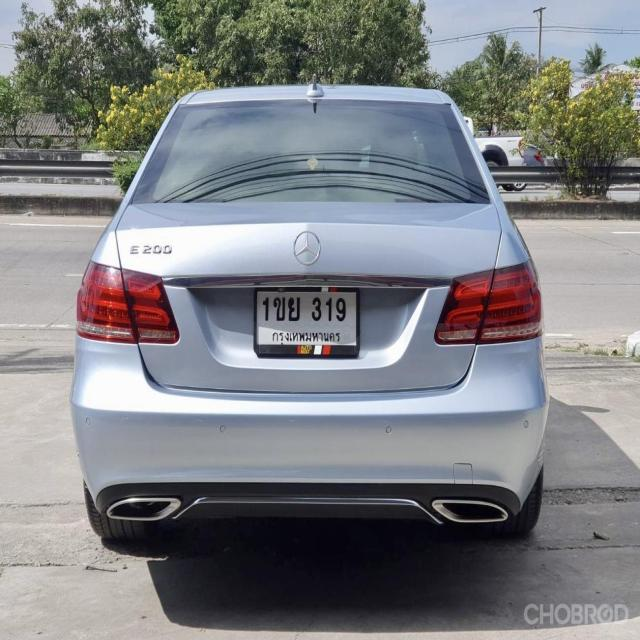license_plate: (253, 284, 365, 361)
